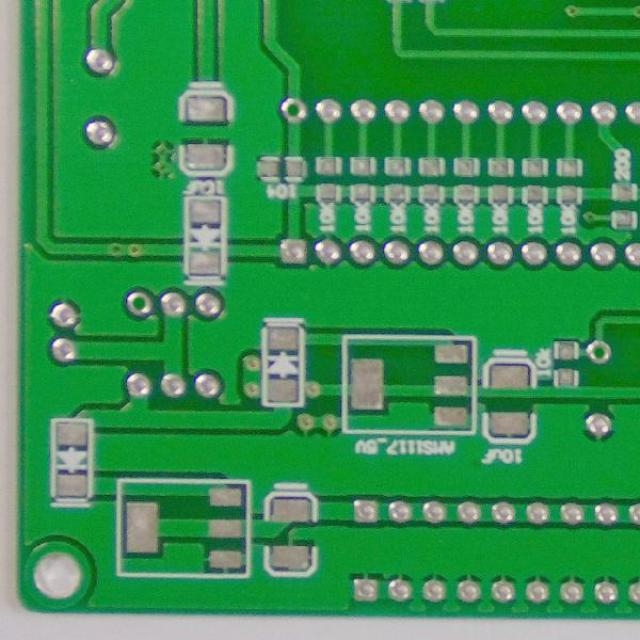Missing_Hole: (122, 288, 154, 319), (276, 95, 308, 125), (584, 339, 614, 367)
